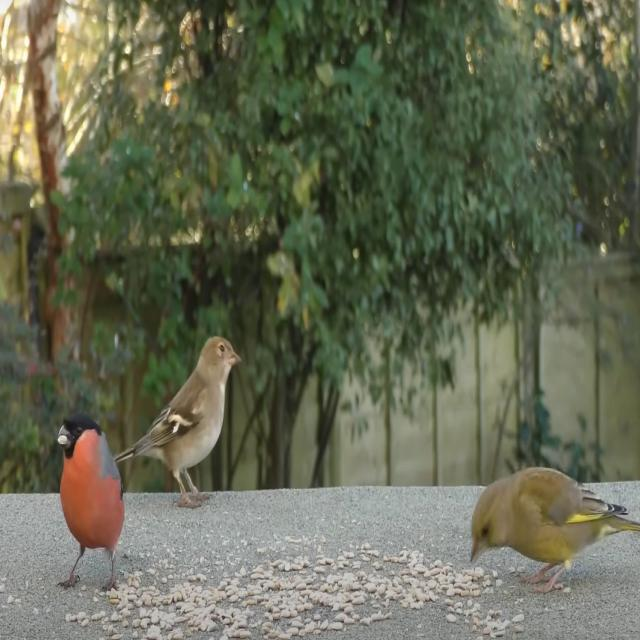beak: (53, 422, 72, 454), (468, 536, 484, 570), (231, 345, 240, 368)
bird: (111, 332, 244, 502), (469, 460, 640, 585), (52, 406, 128, 601)
